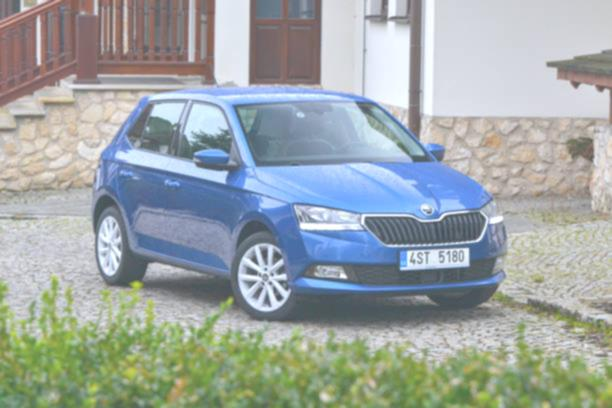skoda: (418, 203, 441, 217)
